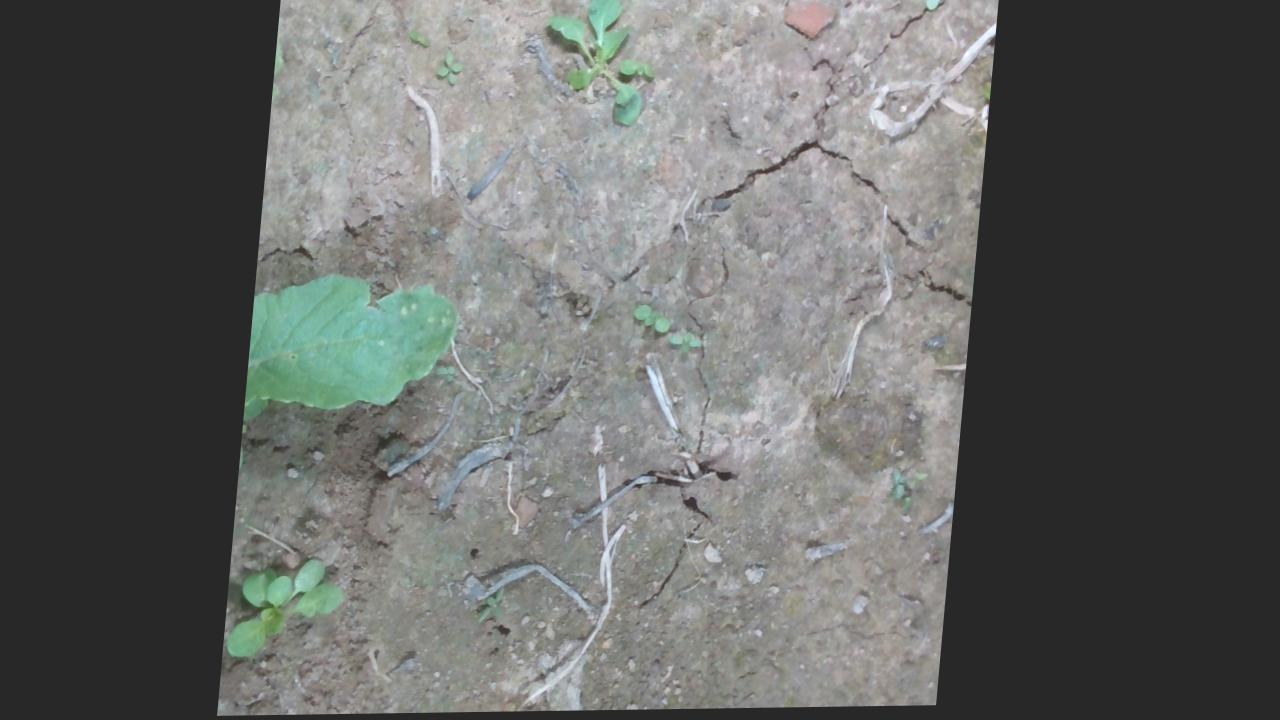weed: (637, 305, 680, 334), (437, 51, 467, 87)
